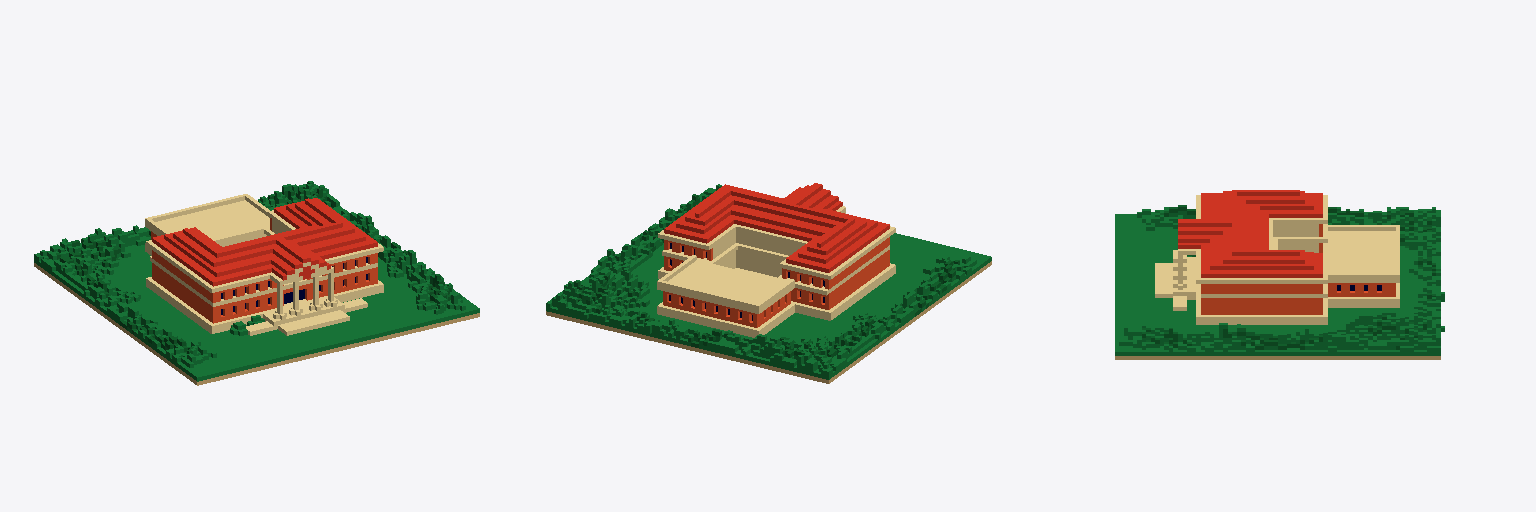
The picture shows the model from 3 angles: view 1: azimuth 30°, elevation 25°; view 2: azimuth 150°, elevation 25°; view 3: azimuth 270°, elevation 25°; orthographic projection.
Parts seen in each view (by area): view 1: 校医院; view 2: 校医院; view 3: 校医院.
Boxes of the visible parts, x1=… form: 校医院: x1=34, y1=181, x2=479, y2=385; 校医院: x1=546, y1=183, x2=991, y2=383; 校医院: x1=1115, y1=190, x2=1444, y2=359.
Size of the model in its own units: 72 by 17 by 73.
Materials: 1 (1 with a texture image).